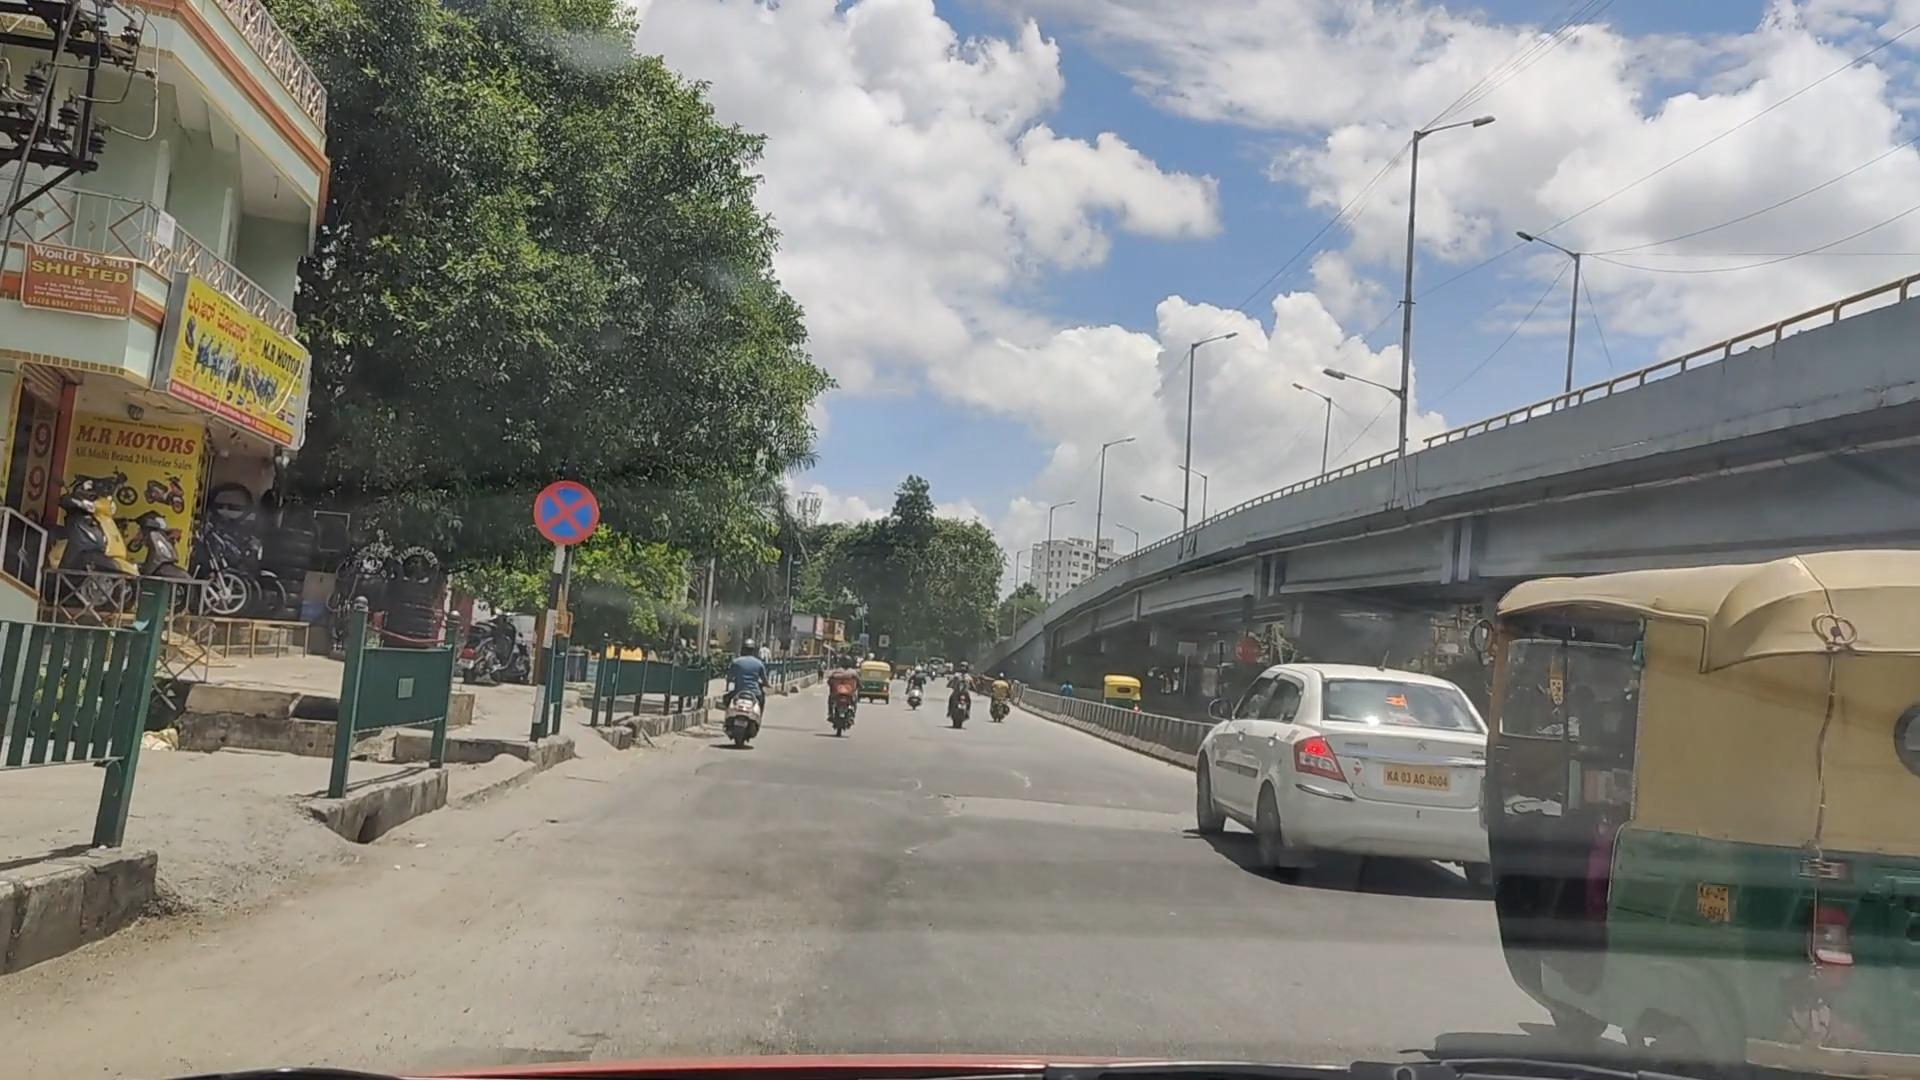LMV: (1200, 659, 1523, 887), (727, 636, 765, 742), (823, 649, 860, 742), (943, 658, 975, 733)
RoadDamages: (944, 794, 1196, 825), (1001, 762, 1036, 787), (909, 771, 924, 791)
